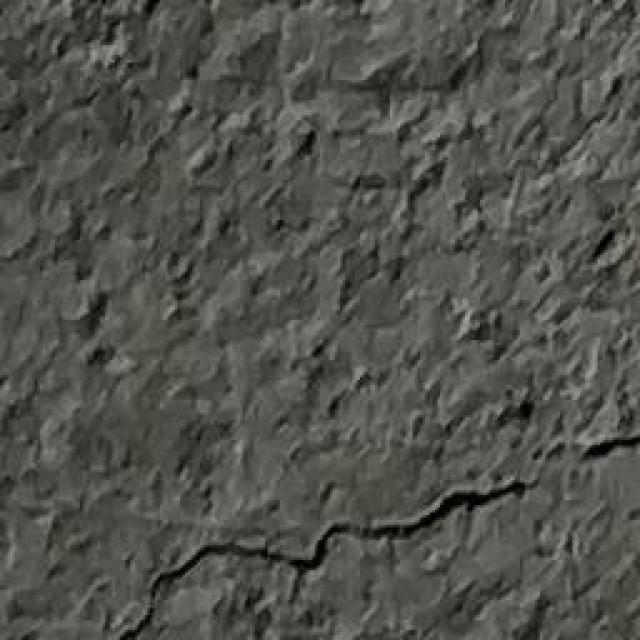Diagonal: (118, 436, 638, 640)
Rippled: (0, 0, 640, 372)
